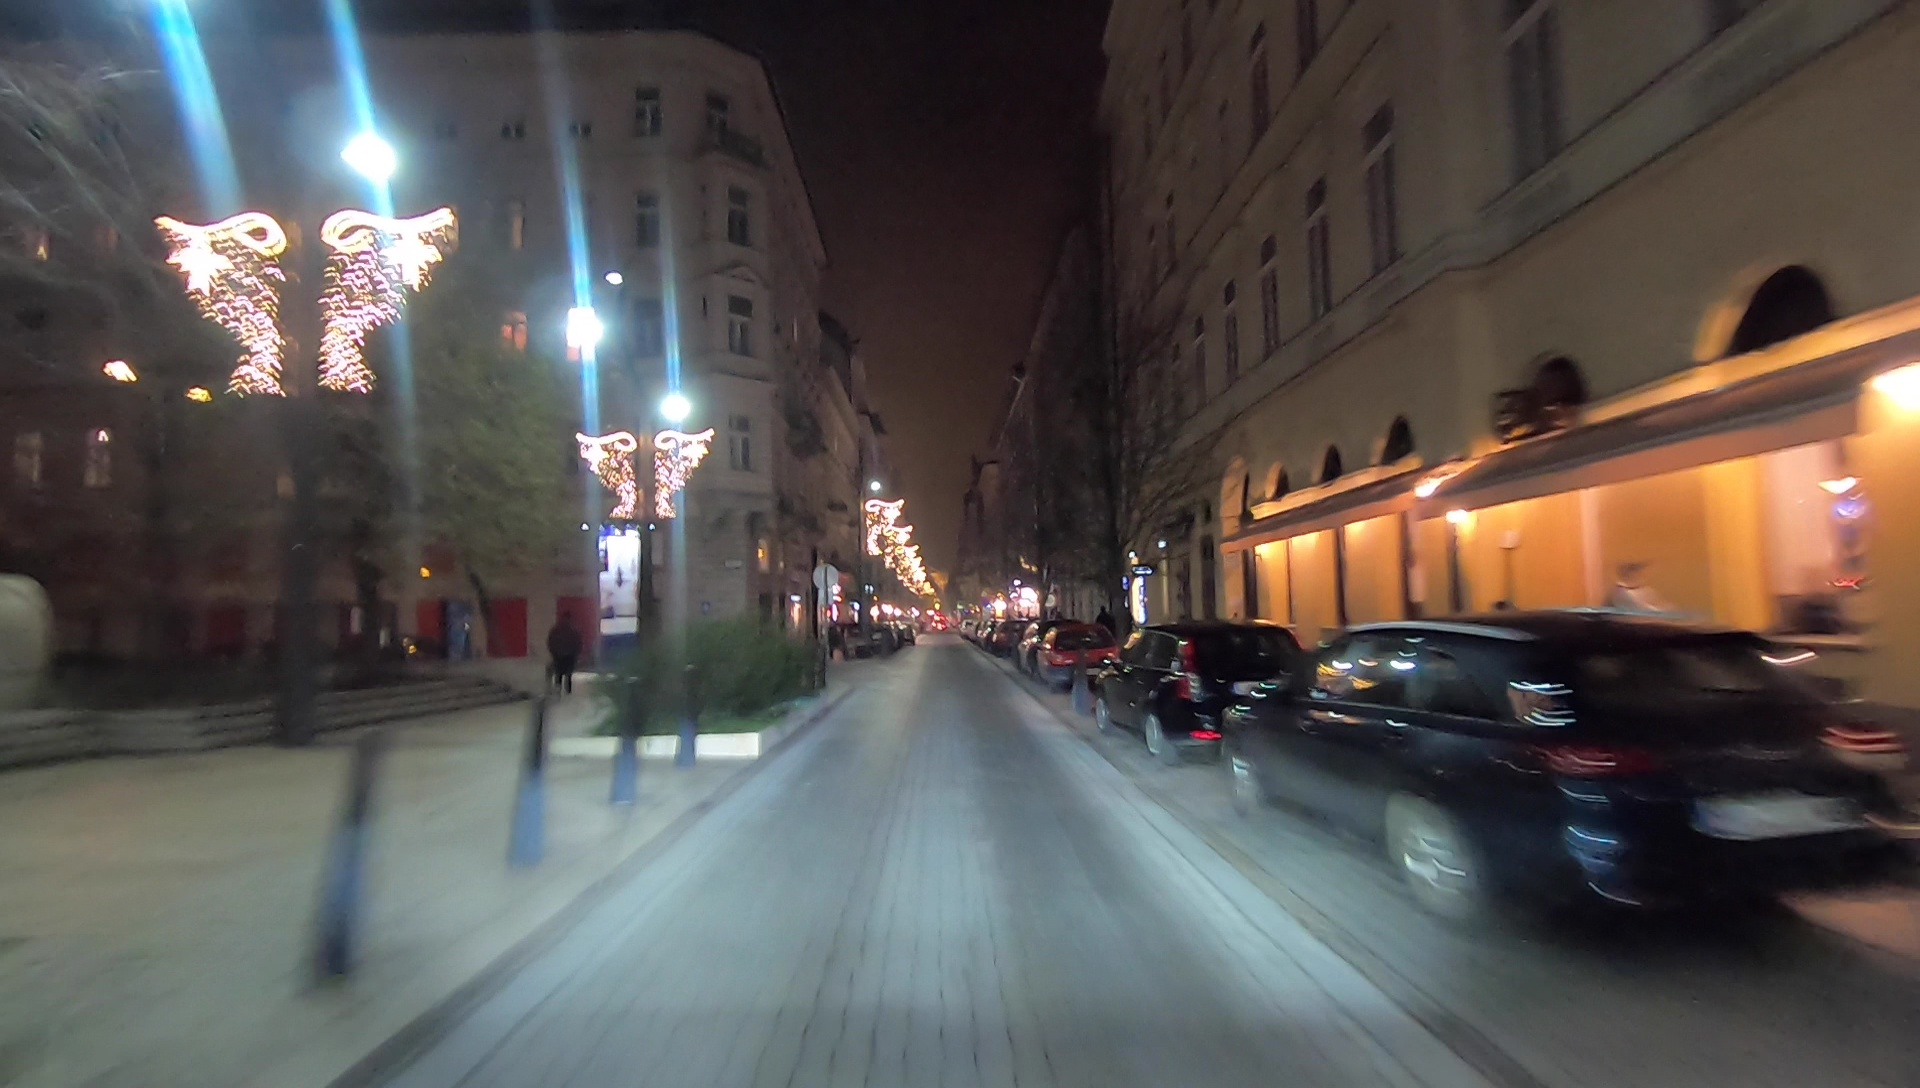person: (551, 611, 576, 695)
